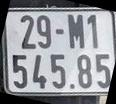-: (56, 29, 64, 35)
.: (70, 84, 74, 89)
1: (87, 15, 98, 48)
2: (20, 16, 36, 50)
4: (33, 55, 46, 89)
5: (50, 54, 66, 88), (95, 54, 110, 88), (13, 55, 27, 89)
8: (77, 54, 92, 88)
9: (38, 15, 51, 48)
M: (68, 15, 85, 48)
